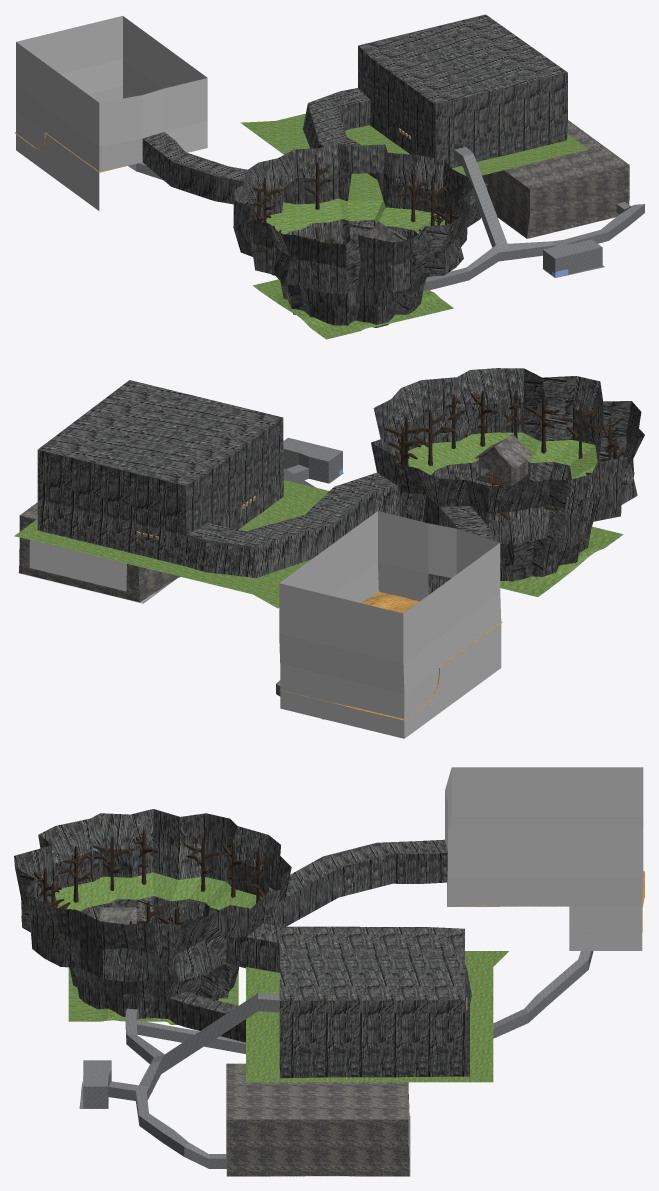
The model's file is mapfinalfix.fbx.
3 views of the same model, one above another, from view 1: azimuth 30°, elevation 25°; view 2: azimuth 150°, elevation 25°; view 3: azimuth 270°, elevation 25° (orthographic). The views are drawn at different scales.
Parts seen in each view (by area): view 1: Cylinder, BeachMap, FightingMap, City, GrassTop(NEVER DELETE), MODVENTSOBJECT, BottomGrass(NEVER DEL), Cube.003; view 2: Cylinder, BeachMap, FightingMap, GrassTop(NEVER DELETE), City, MODVENTSOBJECT, Cube.003, BottomGrass(NEVER DEL); view 3: Cylinder, BeachMap, FightingMap, City, GrassTop(NEVER DELETE), MODVENTSOBJECT, BottomGrass(NEVER DEL), Cube.003.
Part boxes in pixels (<box>): Cylinder: <box>142,88,487,327</box>; BeachMap: <box>14,16,207,210</box>; FightingMap: <box>358,14,567,167</box>; City: <box>482,120,629,238</box>; GrassTop(NEVER DELETE): <box>240,113,588,234</box>; MODVENTSOBJECT: <box>128,147,644,290</box>; BottomGrass(NEVER DEL): <box>252,279,453,339</box>; Cube.003: <box>365,221,406,242</box>; Cylinder: <box>178,368,644,594</box>; BeachMap: <box>279,511,502,738</box>; FightingMap: <box>37,380,283,566</box>; GrassTop(NEVER DELETE): <box>14,432,597,608</box>; City: <box>18,502,178,603</box>; MODVENTSOBJECT: <box>276,437,343,719</box>; Cube.003: <box>474,433,532,485</box>; BottomGrass(NEVER DEL): <box>500,526,623,596</box>; Cylinder: <box>14,809,471,1042</box>; BeachMap: <box>445,767,644,950</box>; FightingMap: <box>279,926,469,1078</box>; City: <box>226,1063,410,1176</box>; GrassTop(NEVER DELETE): <box>55,872,508,1082</box>; MODVENTSOBJECT: <box>79,951,593,1168</box>; BottomGrass(NEVER DEL): <box>68,967,238,1024</box>; Cube.003: <box>100,907,136,924</box>.
Bounding box in the file's own units: 8284 × 2984 × 9070.
